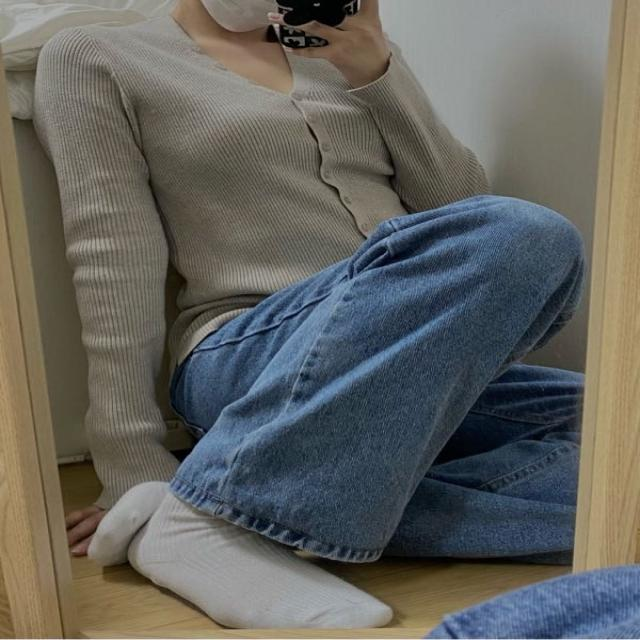cardigan: (31, 0, 492, 511)
denimpants: (167, 189, 602, 564)
